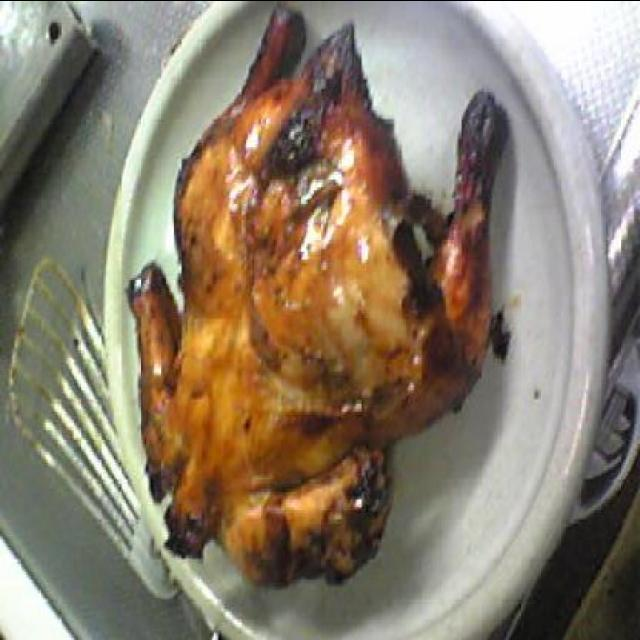Chicken roast: (114, 11, 518, 574)
